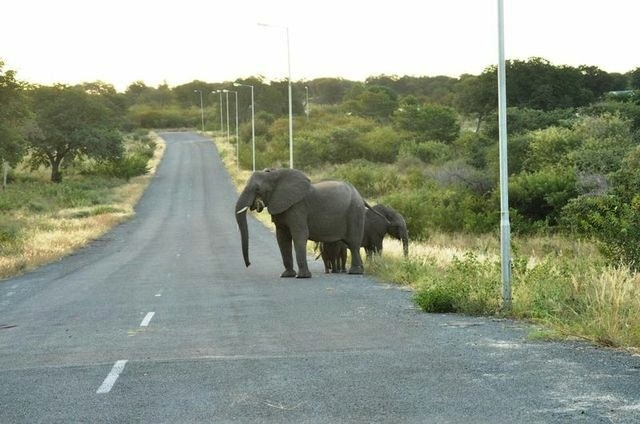elephant: (298, 221, 429, 332), (372, 238, 446, 302)
